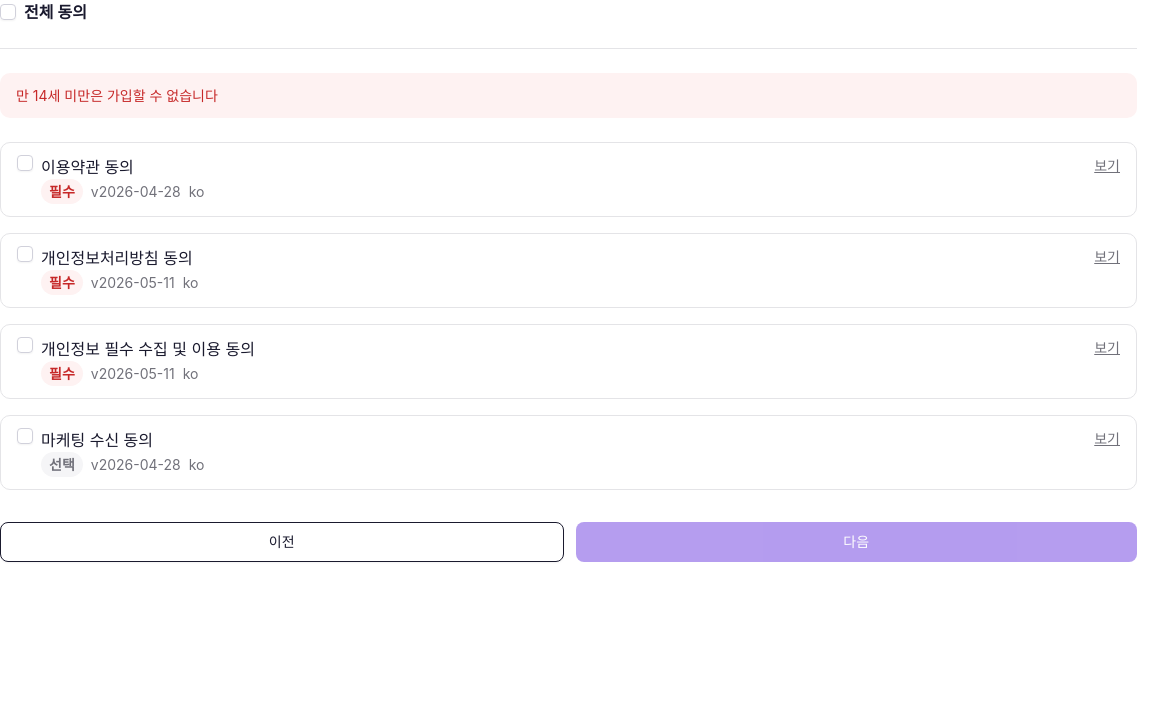
Scenario: SignupStep2 itemized launch consent › renders required and optional itemized consent rows with version, language, and legal dialog actions
Expected: the checkbox named "이용약관 동의" next to "이용약관 동의" is shown, [17,155,33,171]
Expected: the checkbox named "개인정보처리방침 동의" next to "개인정보처리방침 동의" is shown, [17,246,33,262]
Click the button "보기" in the row of "개인정보 필수 수집 및 이용 동의": (1107, 348) [1094,337,1120,358]
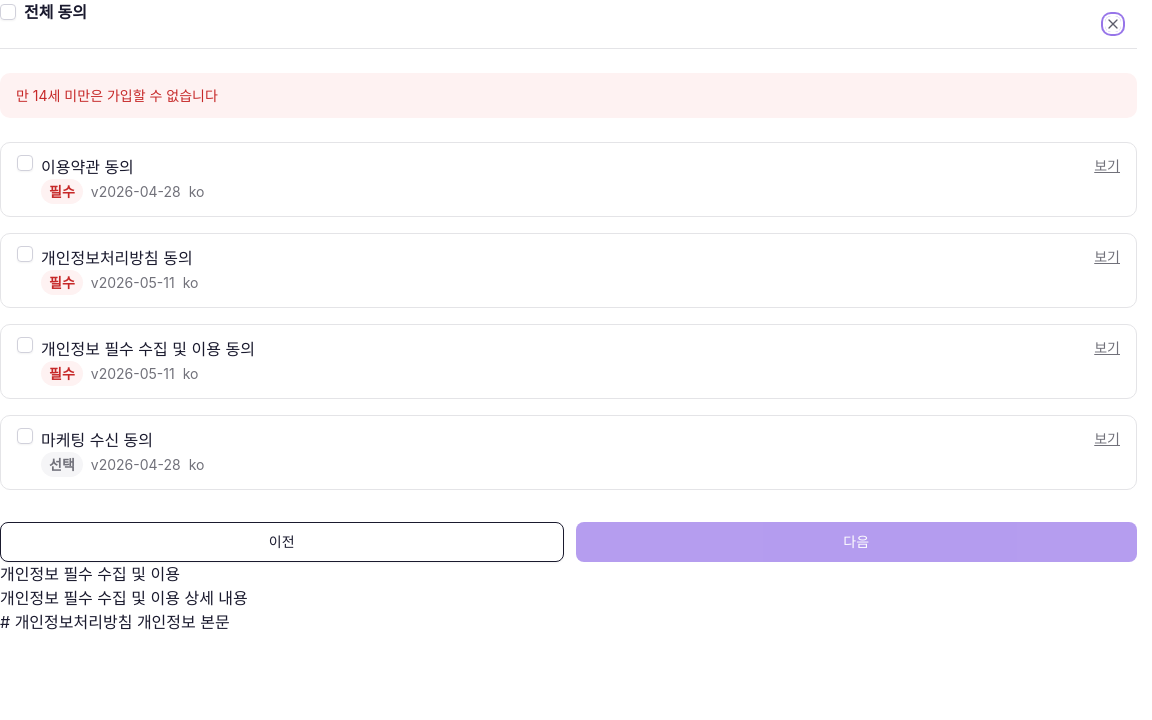
Now the dialog shows "개인정보 필수 수집 및 이용", box [0,564,180,584]
